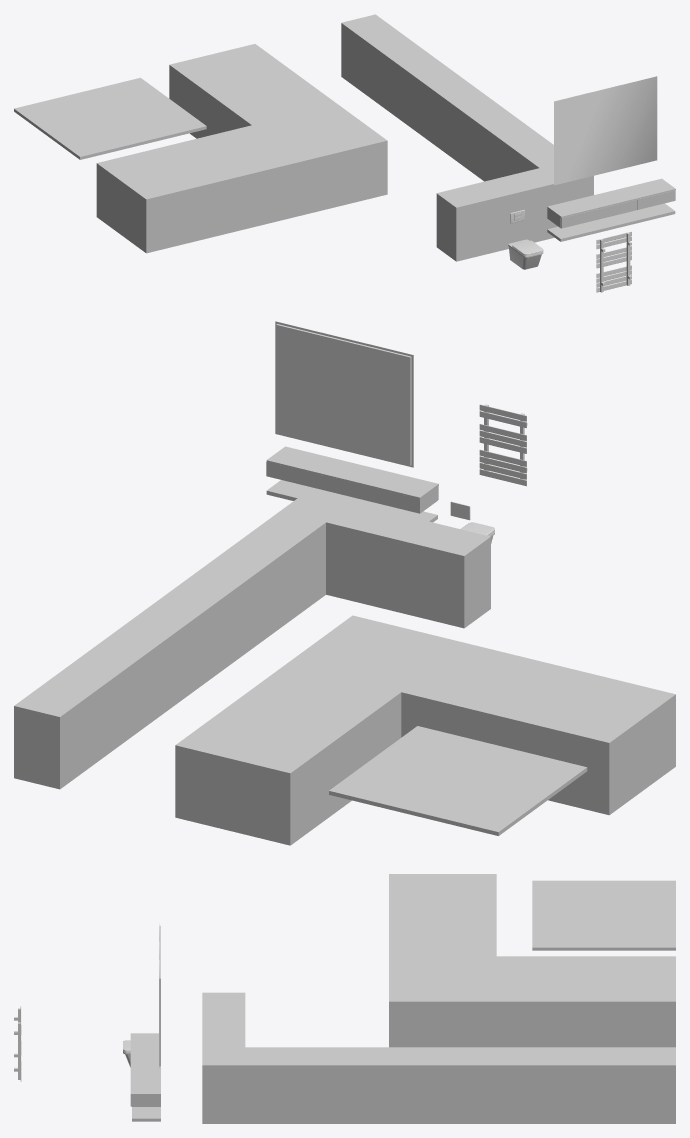
Rendered from RB05__Storey__GroundFloor__ProposedFixtures__MeshModel__.glb.
3 renders of one model, top to bottom at view 1: azimuth 30°, elevation 25°; view 2: azimuth 150°, elevation 25°; view 3: azimuth 270°, elevation 25°, orthographic. The views are drawn at different scales.
Visible parts, largest first — view 1: 27__ProposedBuilding__Fixtures::MAT000E__Generic__Grey, 27__ProposedBuilding__Fixtures::MAT140__Mirror__ClearDefault, 27__ProposedBuilding__Fixtures::Default; view 2: 27__ProposedBuilding__Fixtures::MAT000E__Generic__Grey, 27__ProposedBuilding__Fixtures::Default; view 3: 27__ProposedBuilding__Fixtures::MAT000E__Generic__Grey, 27__ProposedBuilding__Fixtures::Default.
Part boxes in pixels (box(x1,y1,x2,y2)): 27__ProposedBuilding__Fixtures::MAT000E__Generic__Grey: box(14, 14, 675, 261); 27__ProposedBuilding__Fixtures::MAT140__Mirror__ClearDefault: box(554, 76, 657, 185); 27__ProposedBuilding__Fixtures::Default: box(508, 210, 631, 292); 27__ProposedBuilding__Fixtures::MAT000E__Generic__Grey: box(14, 446, 675, 845); 27__ProposedBuilding__Fixtures::Default: box(275, 321, 527, 543); 27__ProposedBuilding__Fixtures::MAT000E__Generic__Grey: box(130, 874, 675, 1123); 27__ProposedBuilding__Fixtures::Default: box(14, 925, 160, 1079).
Size of the model in its own units: 7.17 by 2.6 by 9.22.
3 materials, 1 textured.
